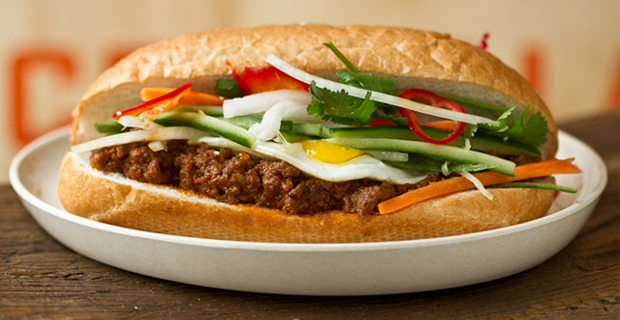hamburger_buns: (55, 11, 569, 257)
